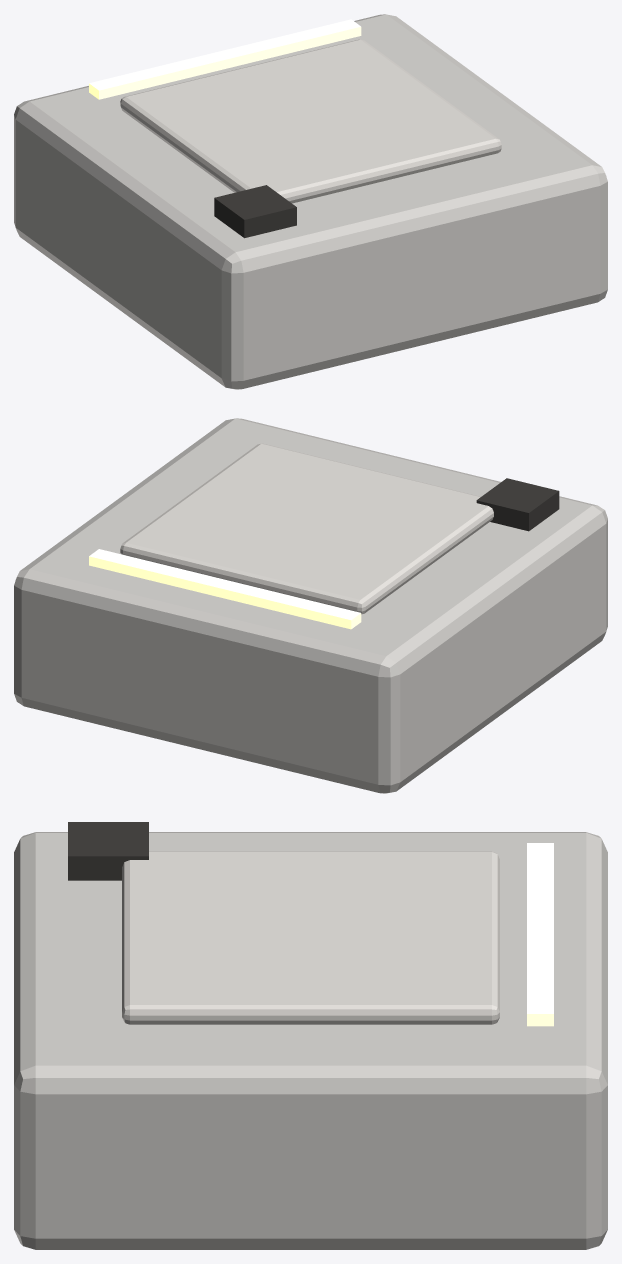
Rendered from topo_comp.glb.
3 views of the same model, one above another, from view 1: azimuth 30°, elevation 25°; view 2: azimuth 150°, elevation 25°; view 3: azimuth 270°, elevation 25° (orthographic). The views are drawn at different scales.
Parts seen in each view (by area): view 1: TOPO_COMP; view 2: TOPO_COMP; view 3: TOPO_COMP.
Part boxes in pixels (<box>): TOPO_COMP: <box>14,14,607,389</box>; TOPO_COMP: <box>14,418,607,793</box>; TOPO_COMP: <box>14,822,607,1249</box>.
Size of the model in its own units: 0.22 by 0.085 by 0.22.
